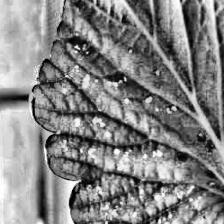Angular Leafspot: (30, 0, 224, 224)
